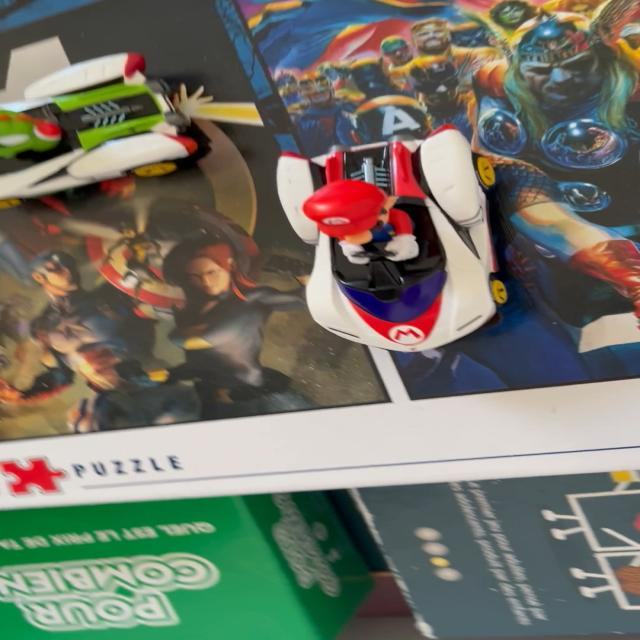mario: (263, 116, 536, 360)
yoshi: (3, 31, 223, 220)
